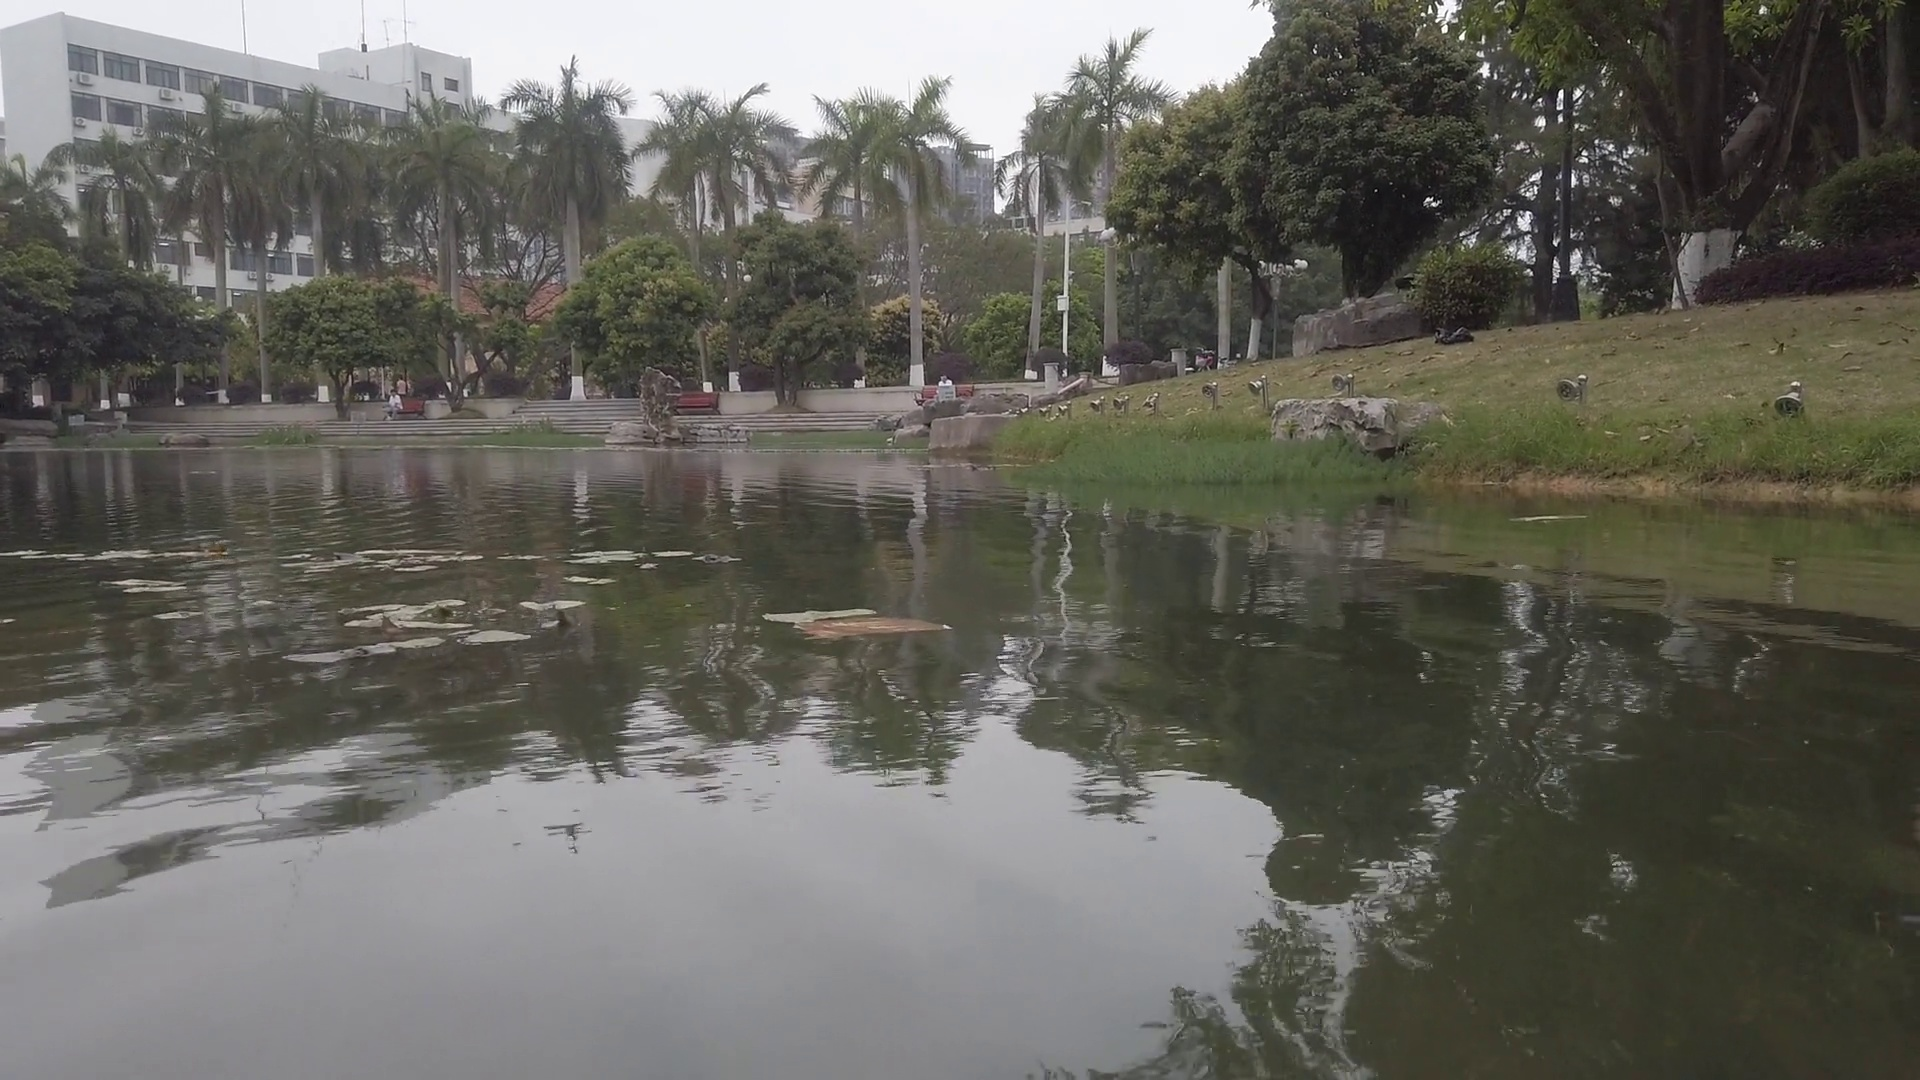paper: (766, 597, 953, 640), (1510, 505, 1590, 526)
